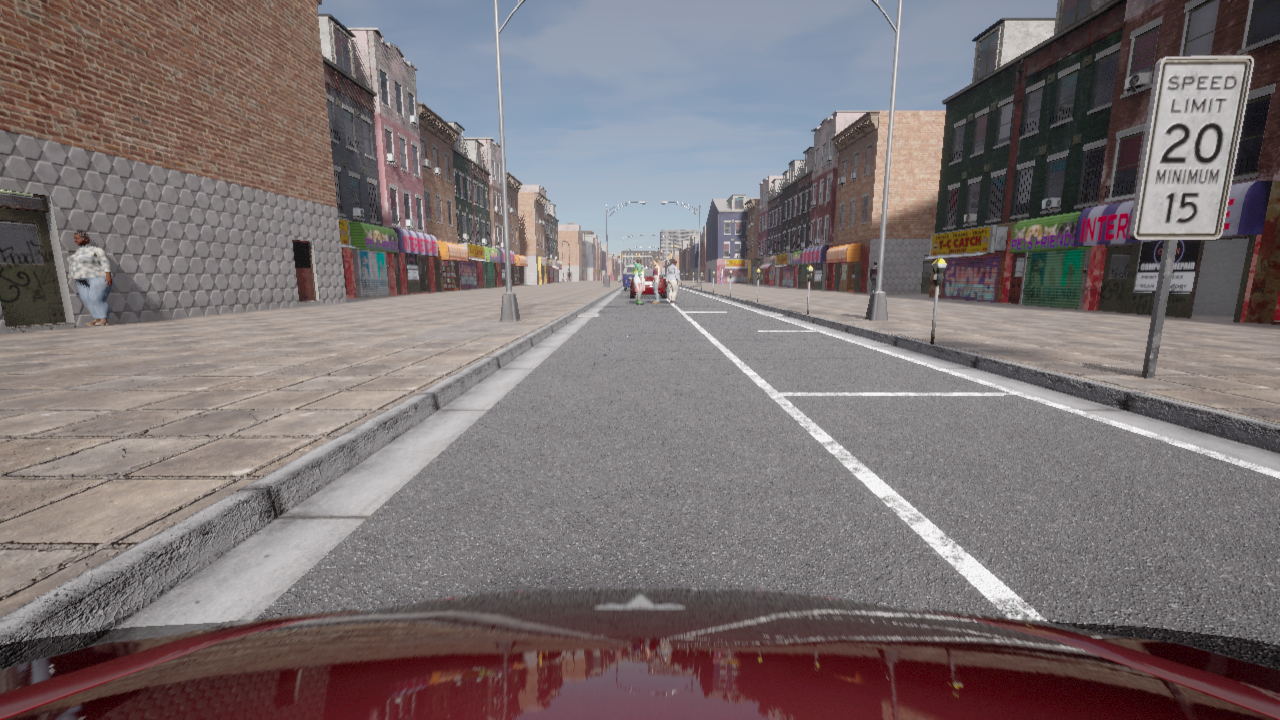cyclist: (0, 588, 1279, 719), (628, 270, 666, 298), (623, 265, 644, 290), (644, 267, 646, 269)
pedestrian: (67, 232, 113, 325), (666, 259, 680, 303), (633, 259, 644, 303), (652, 259, 659, 303), (870, 262, 876, 292), (720, 267, 722, 285)
